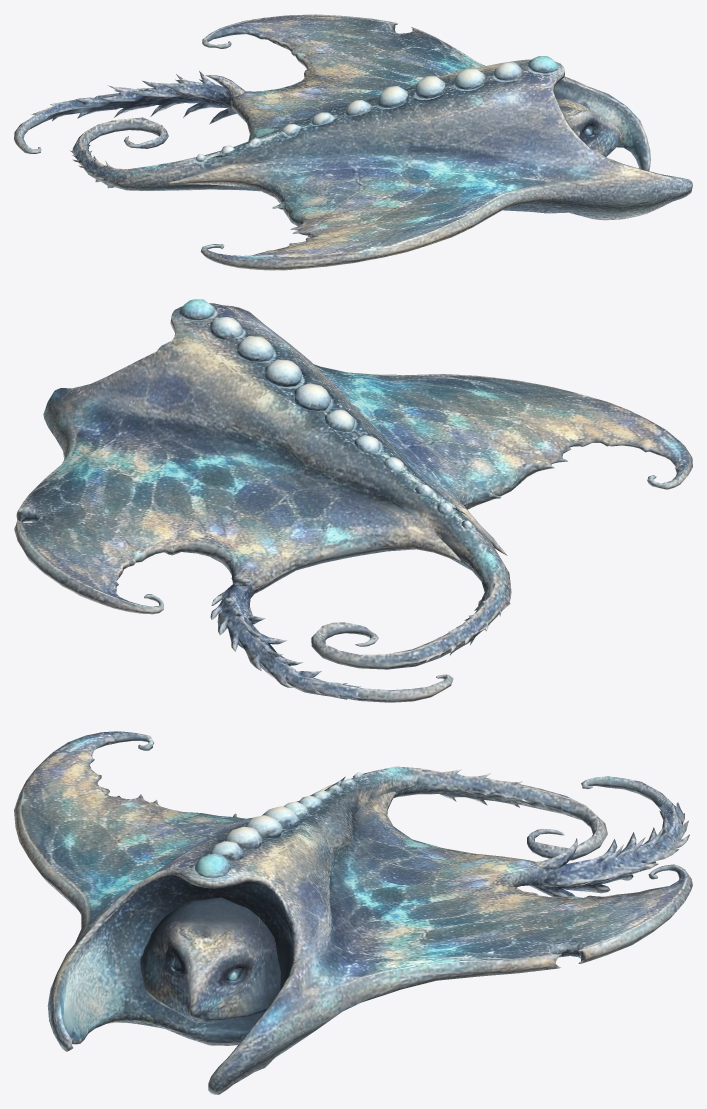
Rendered from hadal-glass-manta-echo.glb.
3 views of the same model, one above another, from view 1: azimuth 30°, elevation 25°; view 2: azimuth 150°, elevation 25°; view 3: azimuth 270°, elevation 25° (orthographic). The views are drawn at different scales.
Parts seen in each view (by area): view 1: tripo_node_392df2ed-7551-4530-b907-96e2bd105ecd; view 2: tripo_node_392df2ed-7551-4530-b907-96e2bd105ecd; view 3: tripo_node_392df2ed-7551-4530-b907-96e2bd105ecd.
Part boxes in pixels (bbox=[...]): tripo_node_392df2ed-7551-4530-b907-96e2bd105ecd: bbox=[14, 14, 692, 270]; tripo_node_392df2ed-7551-4530-b907-96e2bd105ecd: bbox=[14, 299, 692, 702]; tripo_node_392df2ed-7551-4530-b907-96e2bd105ecd: bbox=[14, 731, 692, 1094].
Bounding box in the file's own units: 0.998 × 0.2988 × 0.9824.
1 material, 1 textured.
